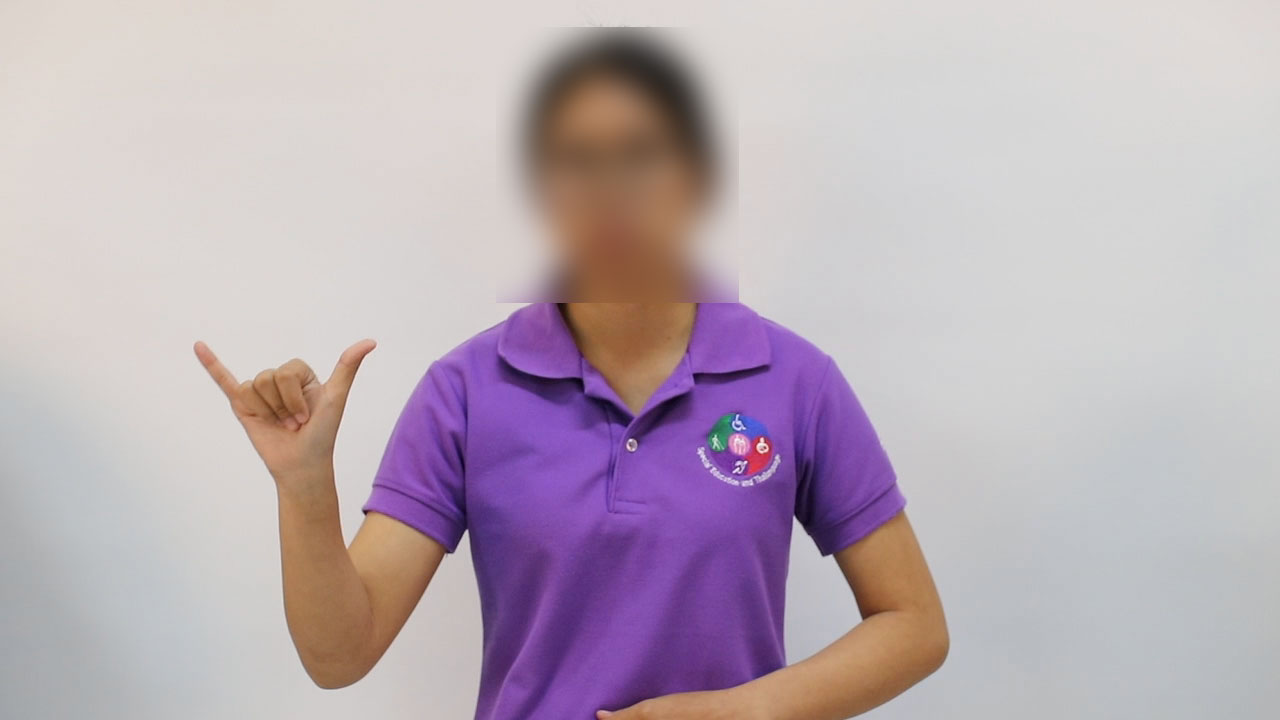yor: (176, 323, 392, 488)
